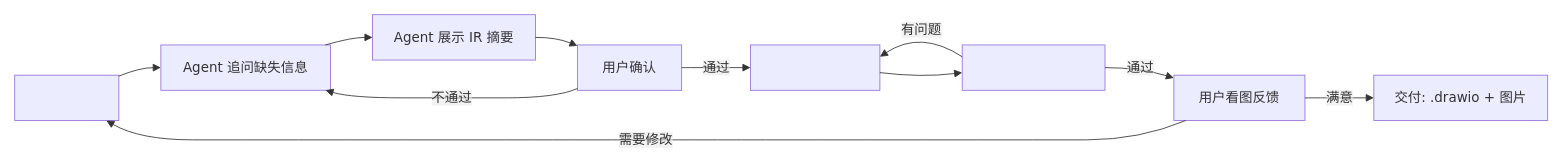
The diagram is 1562 pixels wide and 162 high, and some of its shapes have lost their labels. Each missing label, with the box of its shape:
Agent 生成图: (750, 44, 880, 90)
Agent 自动检查: (961, 44, 1105, 90)
用户描述: (14, 74, 119, 121)
